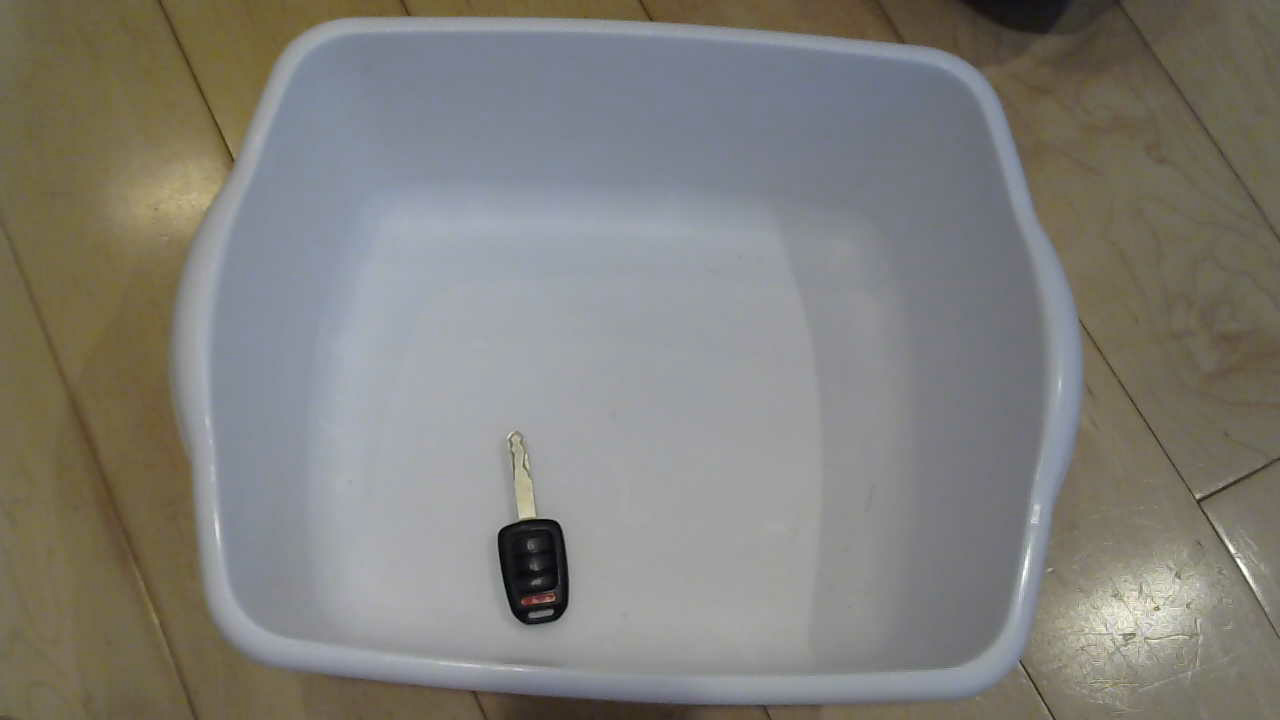key: (450, 434, 604, 626)
